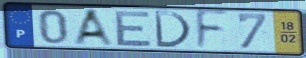0: (36, 8, 72, 45)
7: (236, 12, 269, 51)
A: (71, 7, 117, 48)
D: (152, 9, 194, 50)
E: (114, 10, 155, 48)
F: (194, 9, 231, 53)
